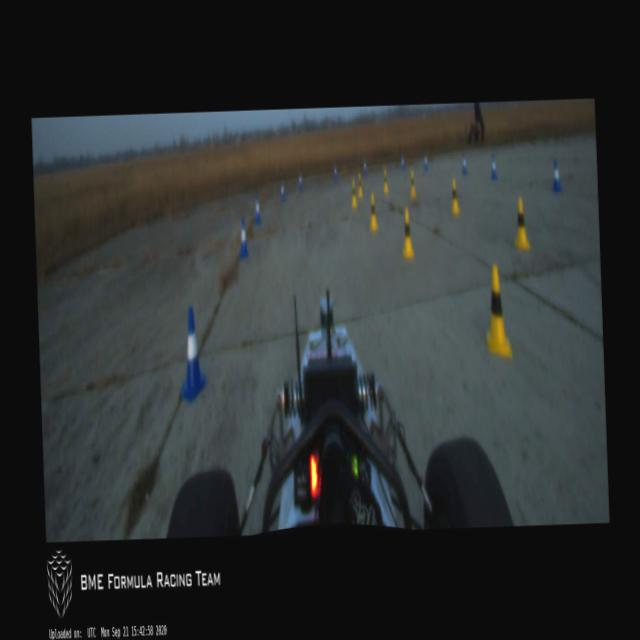blue_cone: (176, 304, 208, 403), (236, 213, 249, 260), (551, 158, 562, 194), (489, 152, 496, 180), (253, 196, 260, 223), (279, 178, 286, 202), (332, 162, 338, 185), (298, 170, 304, 192), (461, 153, 467, 175), (400, 153, 405, 172), (423, 151, 428, 170), (362, 158, 366, 176)
yellow_cone: (485, 265, 512, 361), (514, 196, 532, 252), (401, 210, 414, 258), (368, 195, 378, 232), (450, 178, 460, 215), (408, 170, 416, 198), (349, 180, 356, 208), (382, 168, 388, 193), (357, 172, 362, 197)
